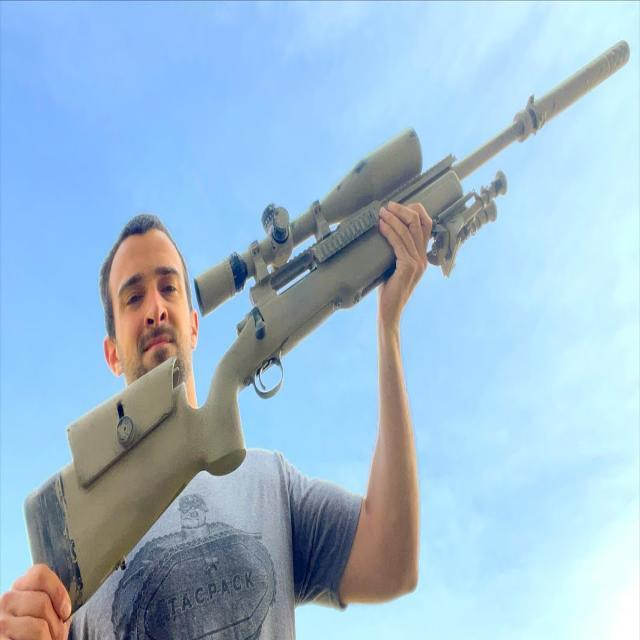rifle: (18, 18, 637, 624)
